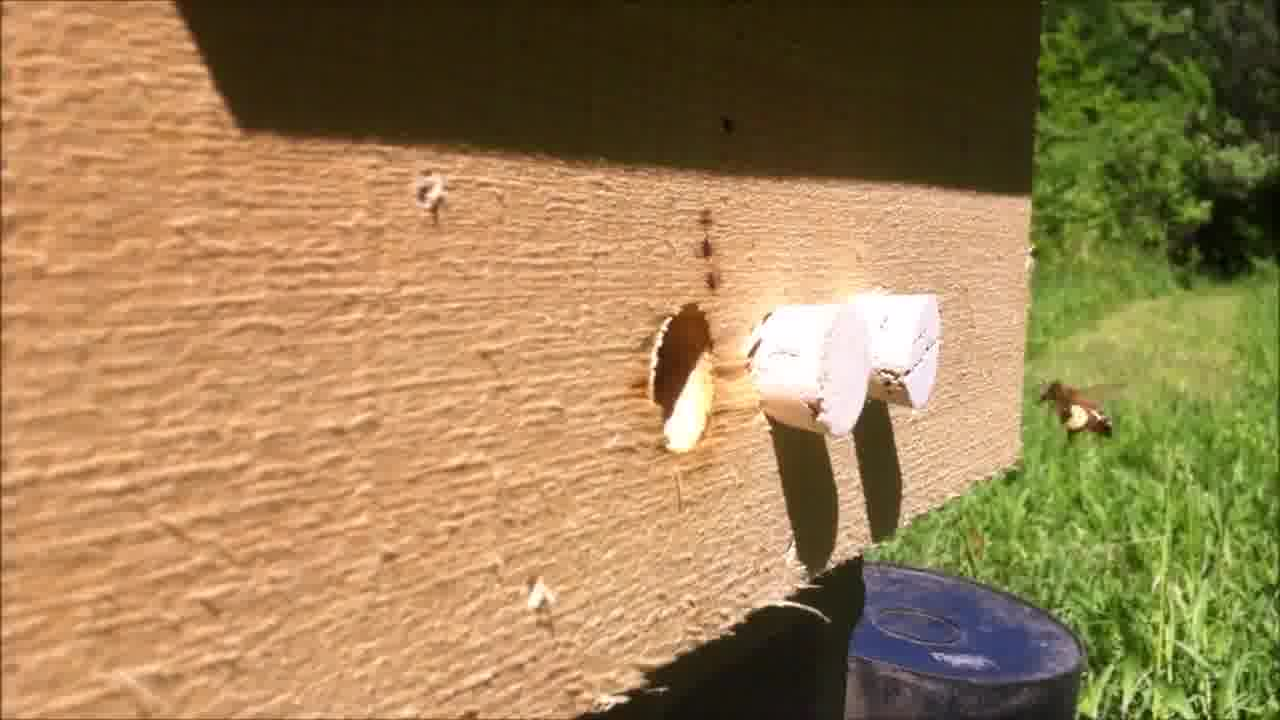pollen: (1035, 379, 1126, 442)
